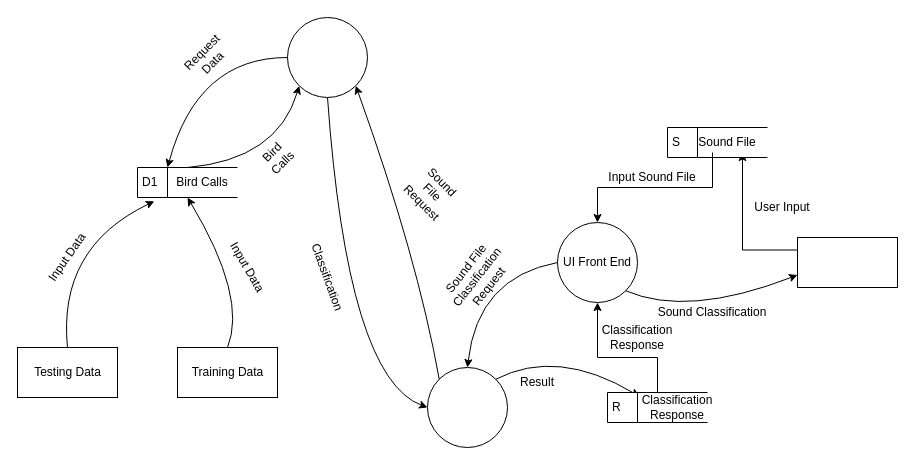
Some shapes in this 915 by 465 pixel diagram are drawn without their labels. The box of each missing label's shape, as (x1, y1, x2, y2) in pixels:
Classification Algorithm: (286, 16, 368, 98)
UI Back End: (426, 366, 508, 448)
User: (796, 236, 898, 288)
